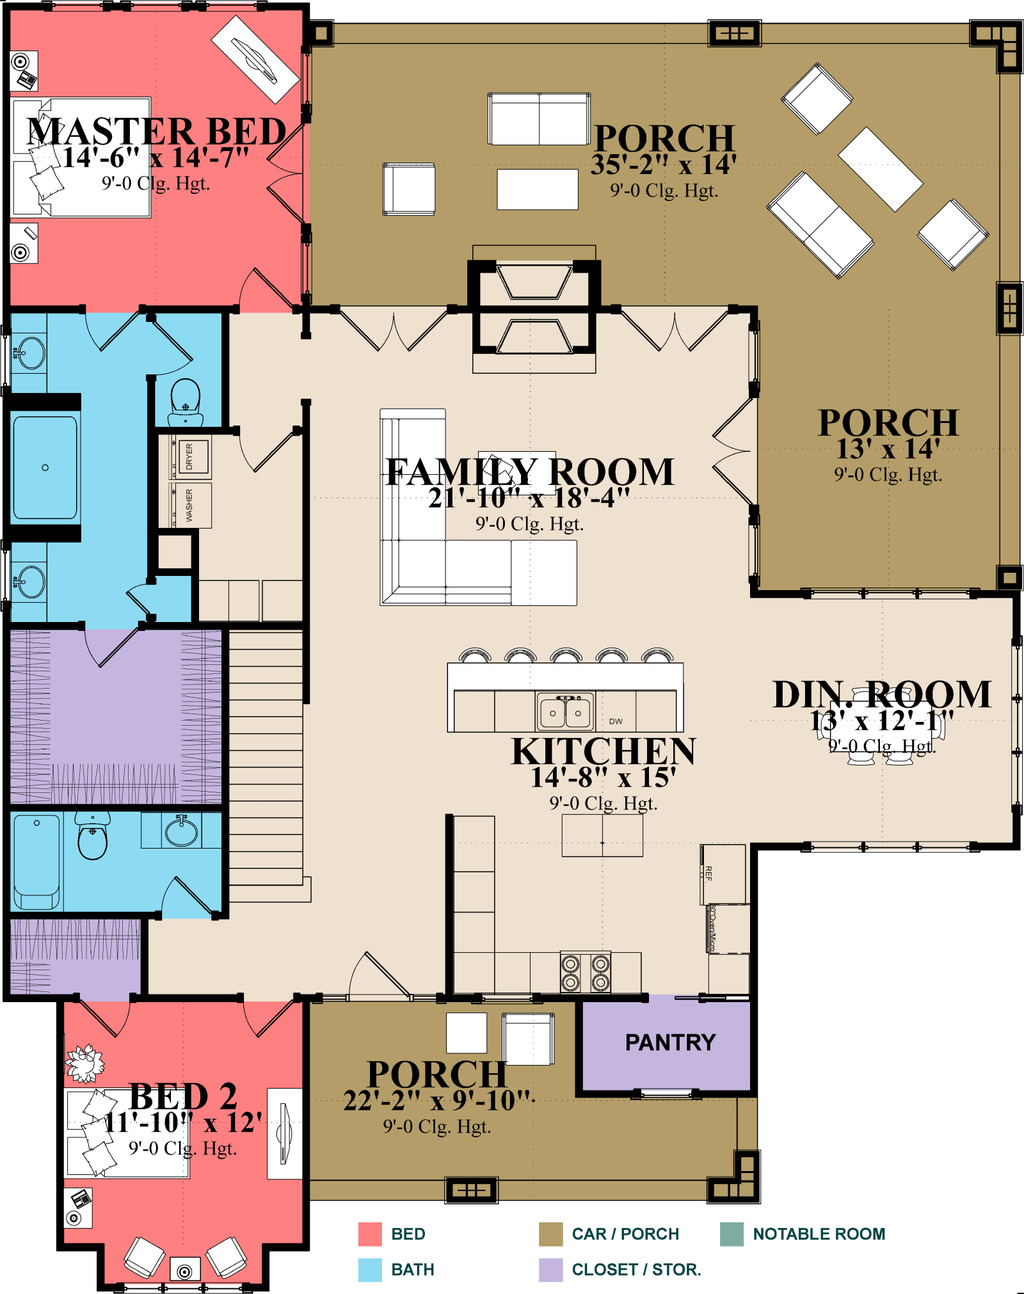bed: (6, 92, 158, 218), (64, 1086, 204, 1185)
dining_table: (800, 686, 970, 764)
door: (332, 286, 454, 354), (617, 294, 740, 354), (254, 110, 315, 229), (706, 394, 766, 505), (340, 954, 422, 1008), (239, 418, 308, 480), (78, 610, 148, 670), (135, 313, 200, 376), (234, 986, 299, 1041), (82, 297, 138, 360), (159, 874, 227, 924), (78, 982, 135, 1041), (230, 270, 300, 314), (126, 578, 176, 621)
kitchen_bar: (430, 622, 711, 756)
large_sink: (162, 374, 222, 436), (72, 802, 124, 861)
large_sofa: (767, 169, 872, 273), (484, 85, 606, 156)
small_sink: (3, 316, 55, 397), (4, 537, 51, 622), (140, 812, 232, 850)
small_sofa: (778, 60, 858, 137), (922, 192, 990, 273), (382, 158, 436, 232)
stairs: (212, 626, 316, 910)
tub: (2, 410, 96, 521), (11, 813, 68, 909)
twin_sink: (530, 680, 599, 733)
window: (798, 578, 983, 610), (806, 834, 979, 857), (1004, 628, 1024, 808)
